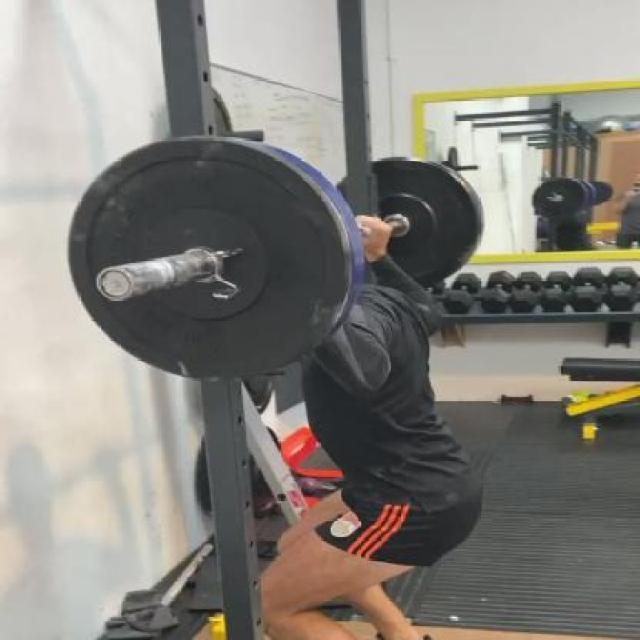barbell: (44, 131, 381, 394)
